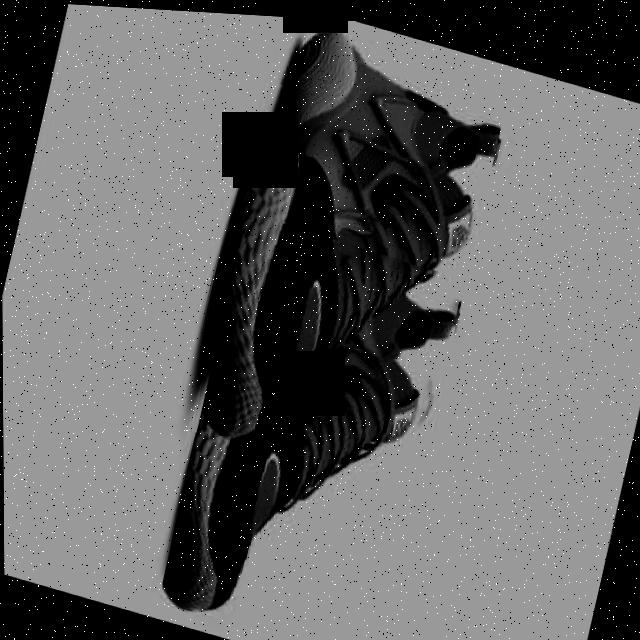shoe: (185, 9, 513, 496), (154, 204, 469, 640)
